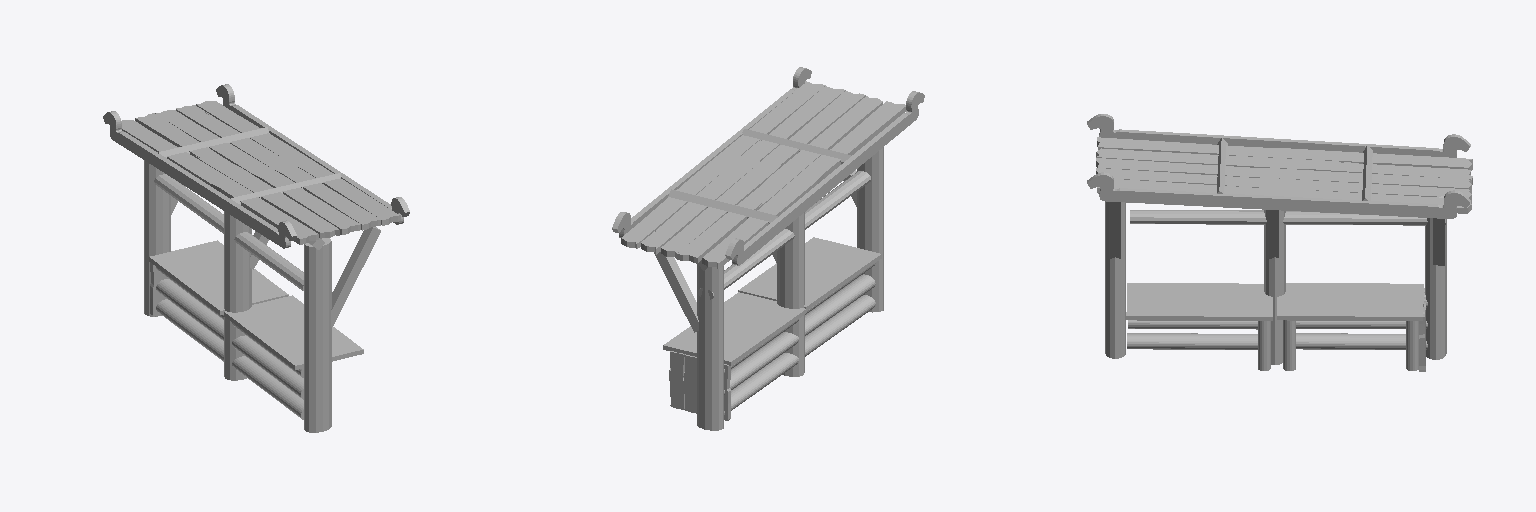
File: Bench2.obj
3 views of the same model, side by side, from view 1: azimuth 30°, elevation 25°; view 2: azimuth 150°, elevation 25°; view 3: azimuth 270°, elevation 25° (orthographic).
Visible parts, largest first — view 1: Box10; view 2: Box10; view 3: Box10.
Part boxes in pixels (bbox=[...]): Box10: bbox=[103, 84, 409, 432]; Box10: bbox=[612, 67, 924, 430]; Box10: bbox=[1087, 114, 1472, 371].
Bounding box in the file's own units: 627 × 1114 × 1724.